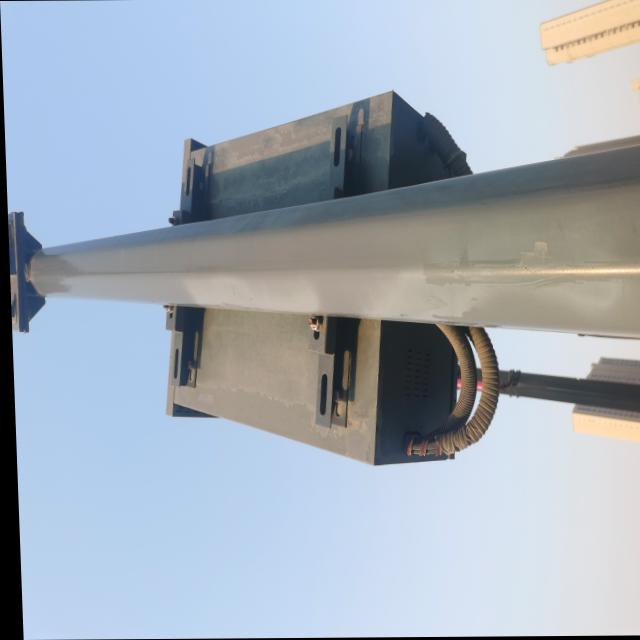Regular bolt: (307, 316, 320, 332), (346, 149, 355, 164), (330, 390, 339, 404), (167, 216, 178, 226), (184, 360, 192, 370), (162, 306, 172, 313)
